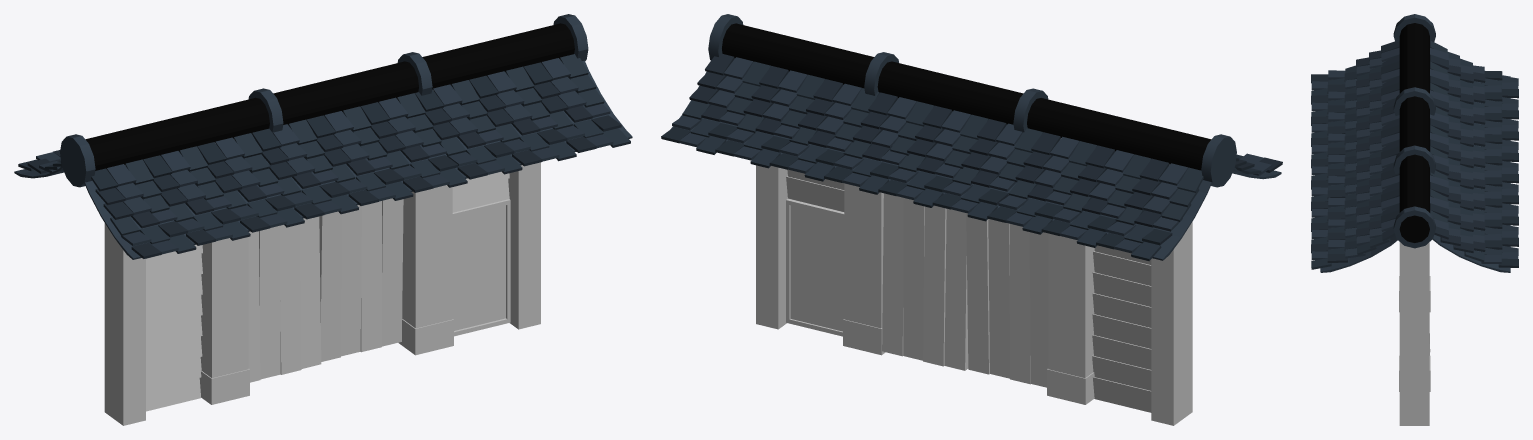
Rendered from Entrance_Door.fbx.
3 renders of one model, left to right at view 1: azimuth 30°, elevation 25°; view 2: azimuth 150°, elevation 25°; view 3: azimuth 270°, elevation 25°, orthographic. The views are drawn at different scales.
Parts seen in each view (by area): view 1: Entrance_Door_LOD0, Door_Big_X, Door_Big_Y, Entrance_Door.001; view 2: Entrance_Door_LOD0, Door_Big_X, Door_Big_Y, Entrance_Door.001; view 3: Entrance_Door_LOD0.
Boxes of the visible parts, x1=… form: Entrance_Door_LOD0: x1=14, y1=14, x2=632, y2=425; Door_Big_X: x1=319, y1=198, x2=403, y2=361; Door_Big_Y: x1=248, y1=216, x2=321, y2=382; Entrance_Door.001: x1=452, y1=205, x2=505, y2=330; Entrance_Door_LOD0: x1=661, y1=14, x2=1282, y2=425; Door_Big_X: x1=882, y1=193, x2=968, y2=370; Door_Big_Y: x1=966, y1=213, x2=1048, y2=387; Entrance_Door.001: x1=790, y1=205, x2=844, y2=331; Entrance_Door_LOD0: x1=1311, y1=14, x2=1518, y2=425.
Size of what is drawn, in the model's own units: 1202 by 667 by 538.
